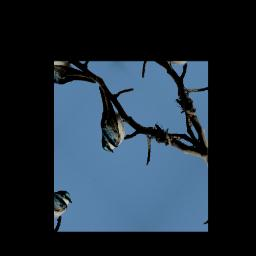Swallow: (73, 84, 138, 157)
